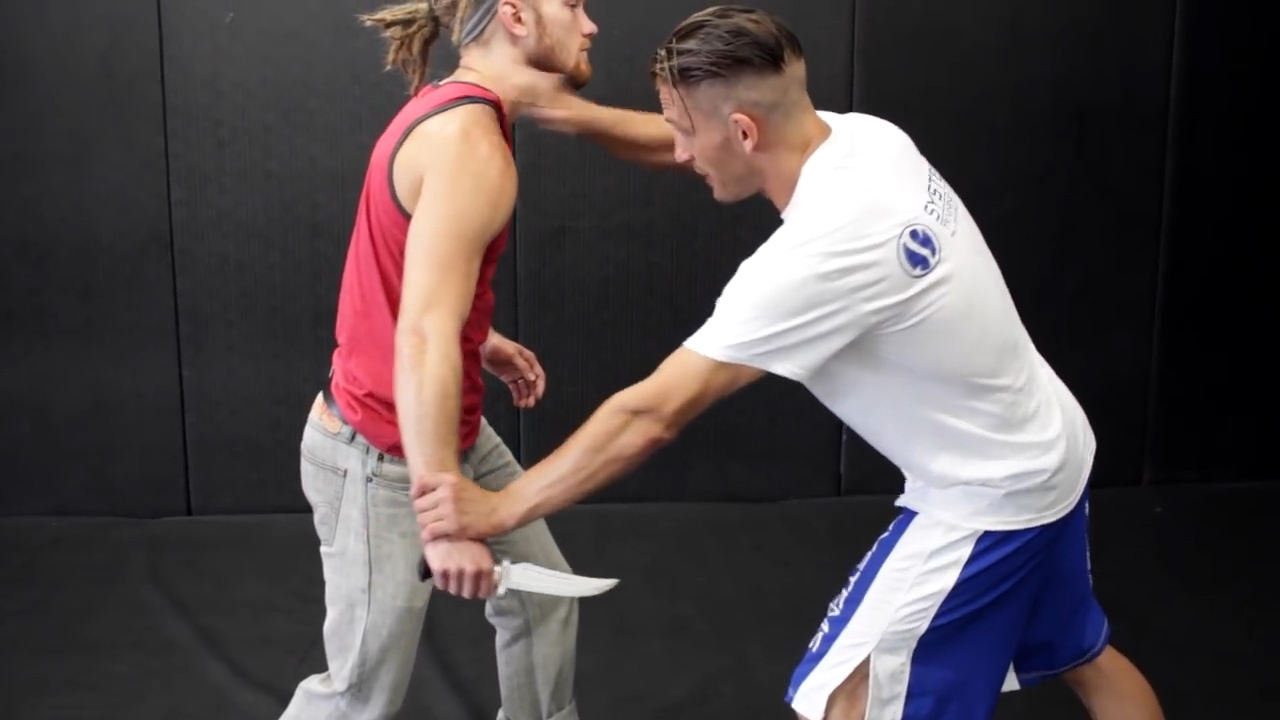knife: (405, 542, 635, 616)
